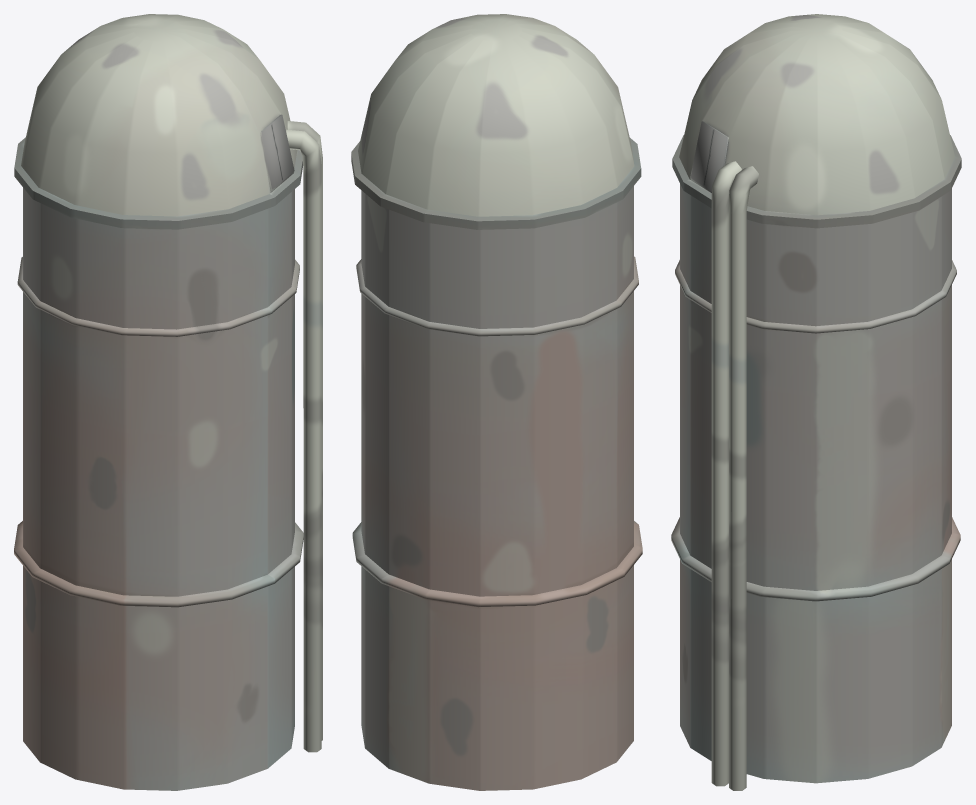
File: Silo.fbx
3 renders of one model, left to right at view 1: azimuth 30°, elevation 25°; view 2: azimuth 150°, elevation 25°; view 3: azimuth 270°, elevation 25°, orthographic.
Parts seen in each view (by area): view 1: Cylinder, Cylinder.001; view 2: Cylinder; view 3: Cylinder, Cylinder.001.
Part boxes in pixels (x1,y1,x2,y2): Cylinder: [14, 14, 303, 790]; Cylinder.001: [286, 121, 322, 752]; Cylinder: [351, 14, 642, 790]; Cylinder: [671, 14, 961, 783]; Cylinder.001: [711, 161, 758, 790].
Bounding box in the file's own units: 214 × 214 × 569.
